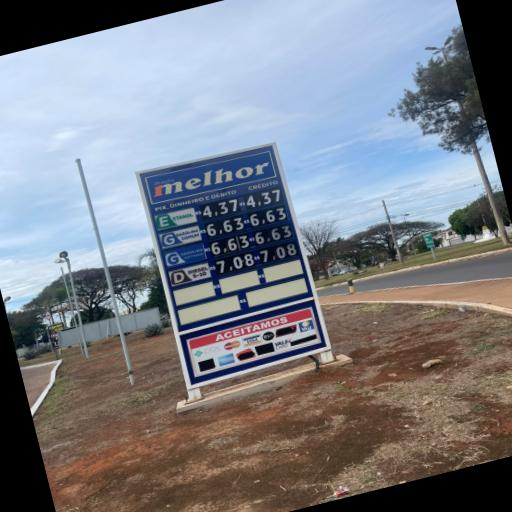ETANOL: (156, 208, 197, 230)
GASOLINA AD: (165, 244, 208, 267)
GASOLINA C: (160, 227, 201, 249)
S10: (168, 262, 212, 288)
placa: (138, 145, 304, 291)
preco: (216, 250, 256, 274), (209, 234, 250, 257), (205, 215, 245, 238), (201, 196, 240, 218)
